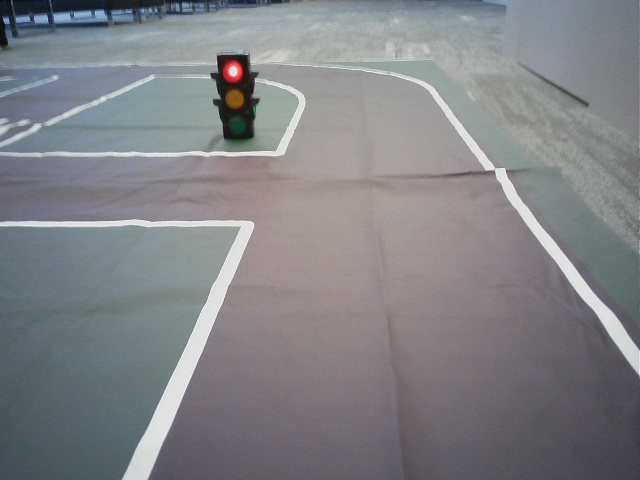red: (220, 57, 249, 135)
